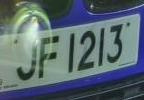1: (64, 28, 80, 80), (97, 24, 107, 71)
2: (77, 25, 98, 77)
3: (106, 20, 127, 68)
F: (38, 33, 60, 82)
J: (14, 36, 40, 84)
